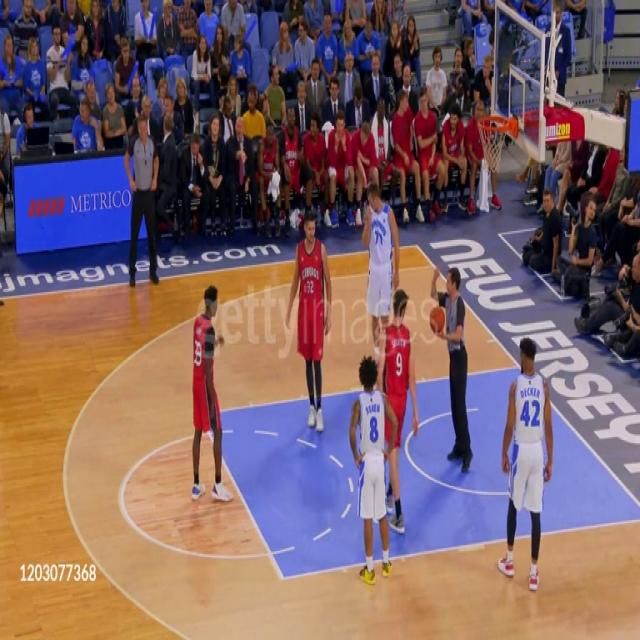ball: (429, 306, 446, 334)
